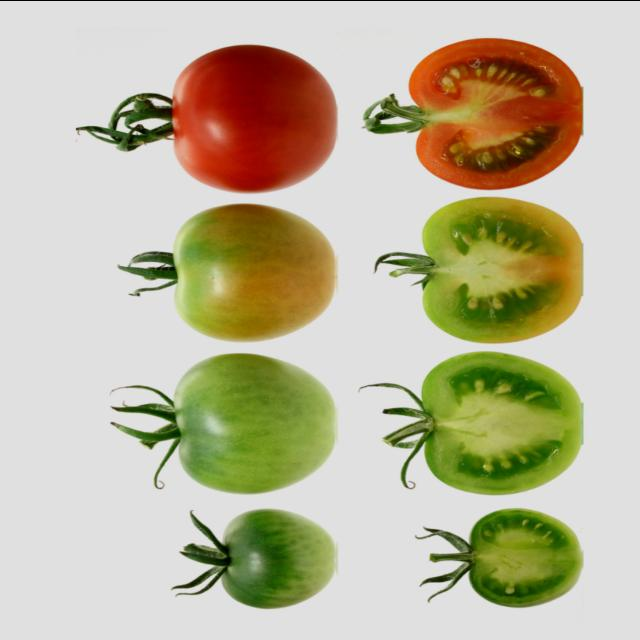tomato: (174, 44, 337, 192)
